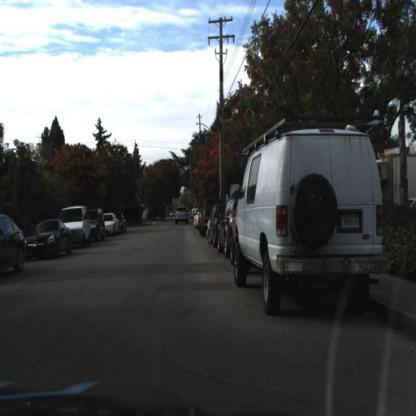car: (231, 128, 391, 322), (25, 217, 76, 257), (1, 211, 28, 279), (61, 208, 95, 252), (175, 204, 192, 230)
